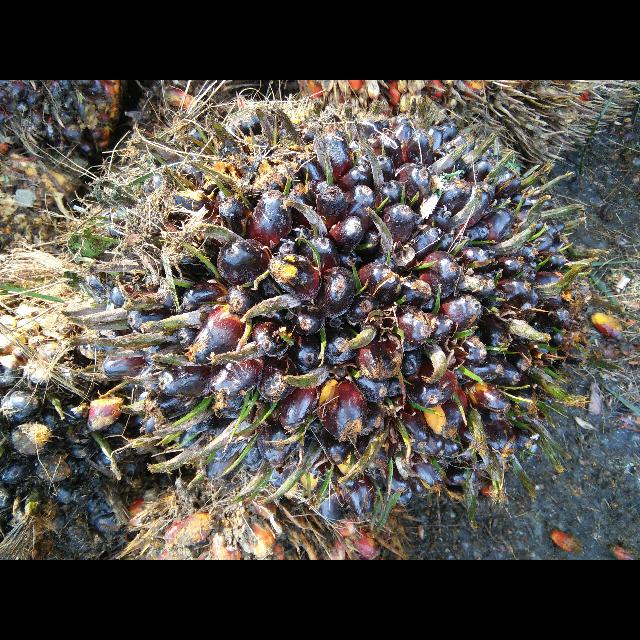Unripe: (69, 103, 594, 531)
